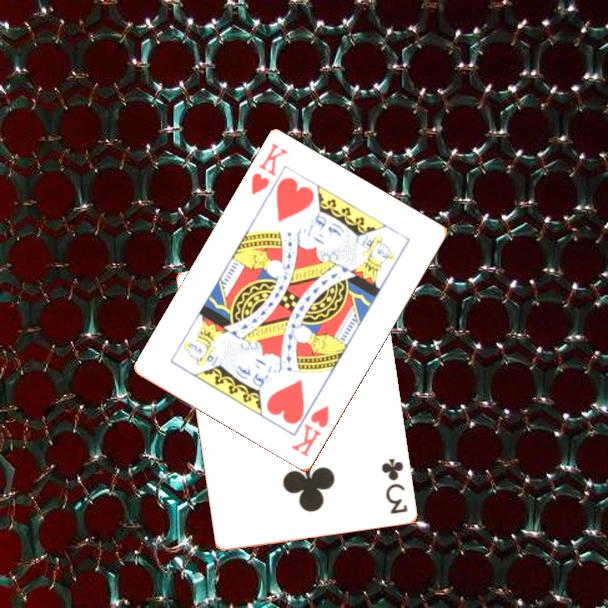c03: (378, 455, 410, 516)
h13: (288, 402, 332, 460), (248, 140, 291, 199)
